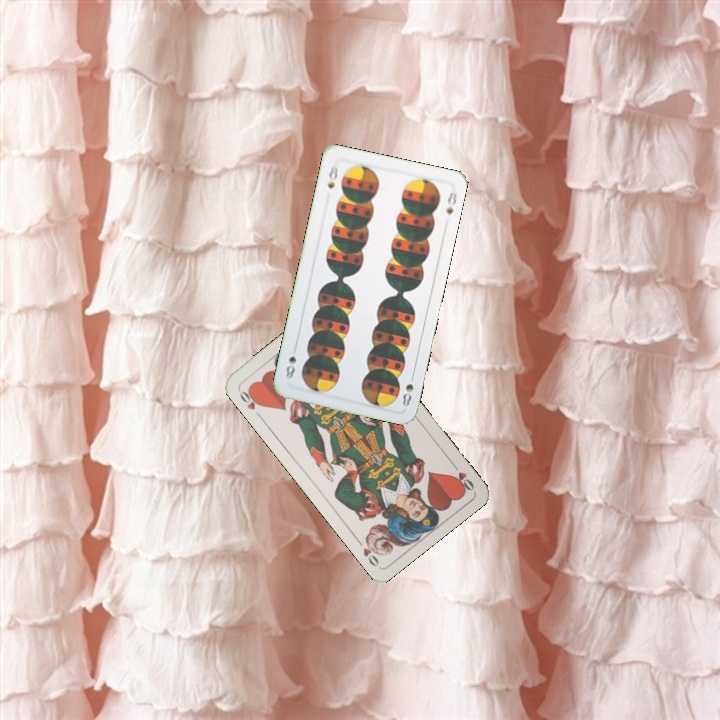HO: (447, 458, 477, 494), (235, 385, 264, 420)
S8: (398, 369, 417, 409), (323, 160, 341, 191)
